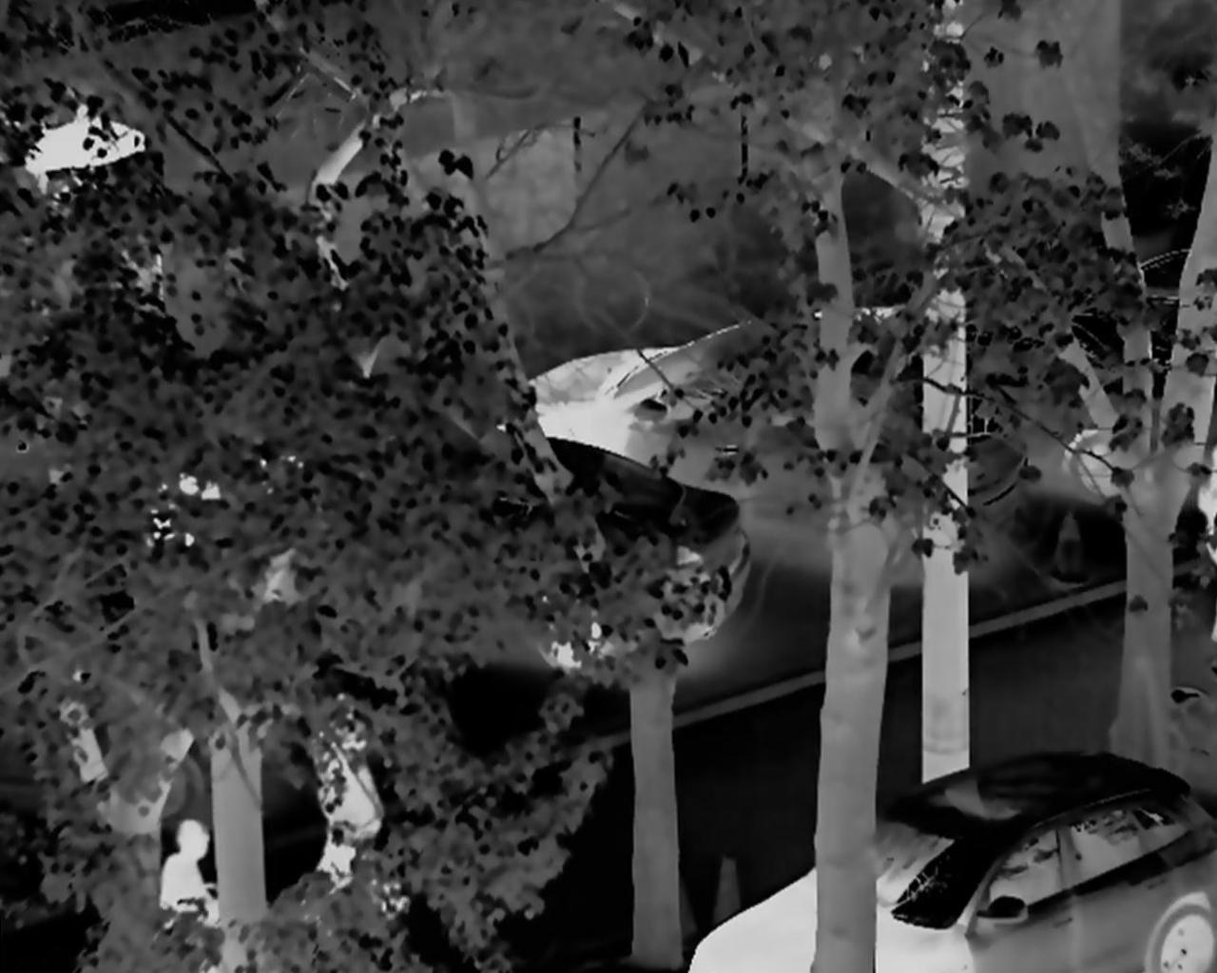person: (301, 729, 405, 940), (160, 821, 233, 966)
